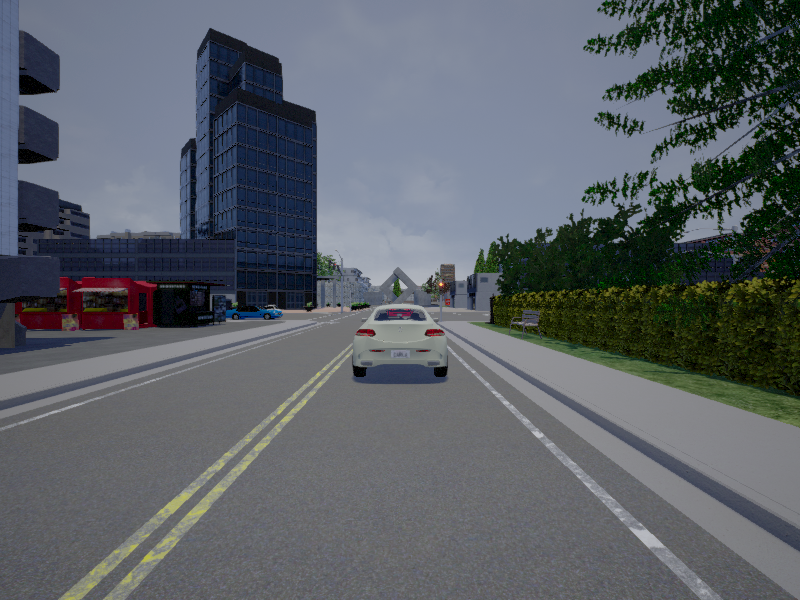Benign: (355, 302, 448, 378), (227, 303, 280, 321)
